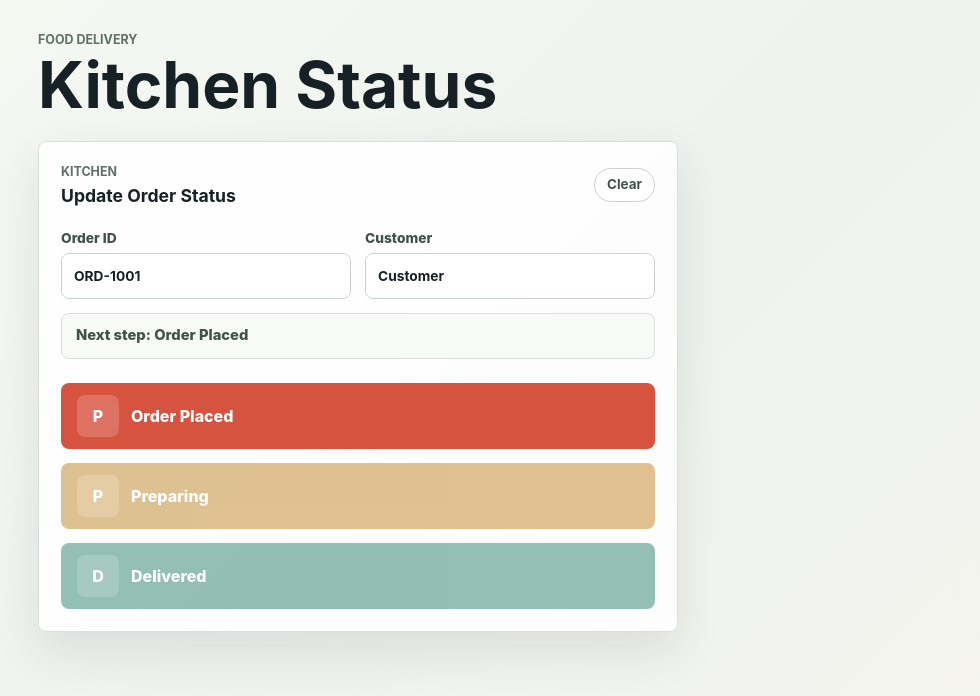
Scenario: App › shows a top banner when the kitchen request fails
Step 1. Click the button "P Order Placed" → [98, 416], box [61,383,655,449]
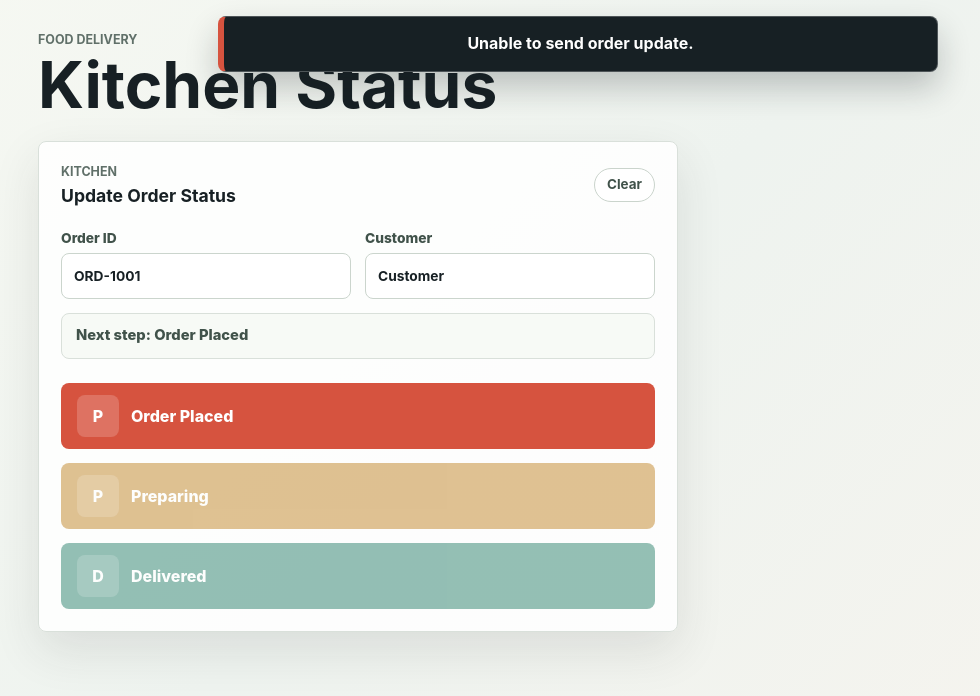
Now the text "Unable to send order update." is shown, box [218,16,938,72]
